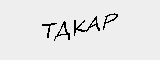А: (87, 15, 103, 39)
Д: (55, 20, 71, 42)
К: (73, 17, 87, 37)
Р: (104, 11, 119, 34)
Т: (42, 20, 58, 41)
